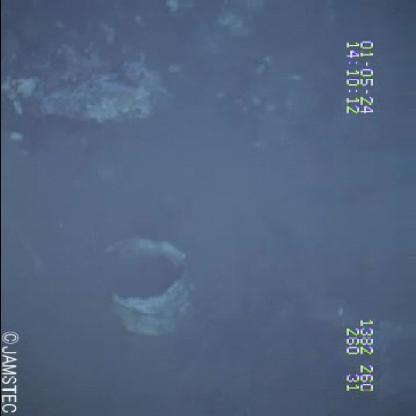Rác: (94, 228, 202, 340)
